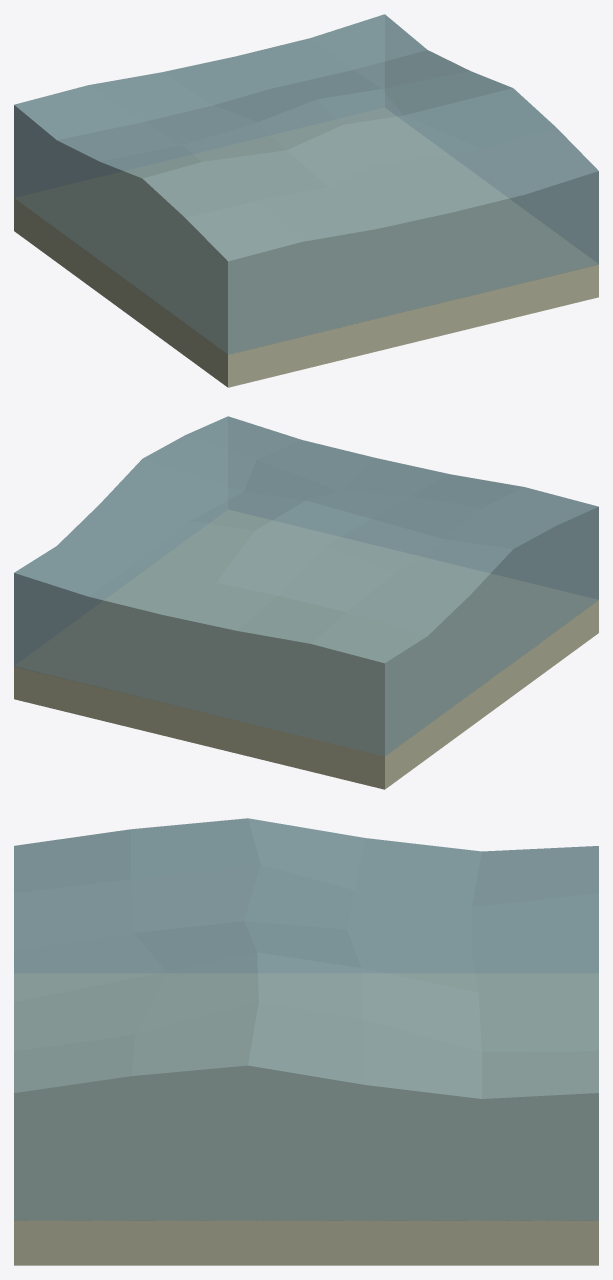
File: Море светлое.fbx
The picture shows the model from 3 angles, top to bottom: view 1: azimuth 30°, elevation 25°; view 2: azimuth 150°, elevation 25°; view 3: azimuth 270°, elevation 25°; orthographic projection. The views are drawn at different scales.
Parts seen in each view (by area): view 1: база_светлое_море; view 2: база_светлое_море; view 3: база_светлое_море.
Boxes of the visible parts, bbox=[...] form: база_светлое_море: bbox=[14, 14, 598, 387]; база_светлое_море: bbox=[14, 416, 598, 789]; база_светлое_море: bbox=[14, 818, 598, 1265].
Size of the model in its own units: 2 by 0.7625 by 2.
